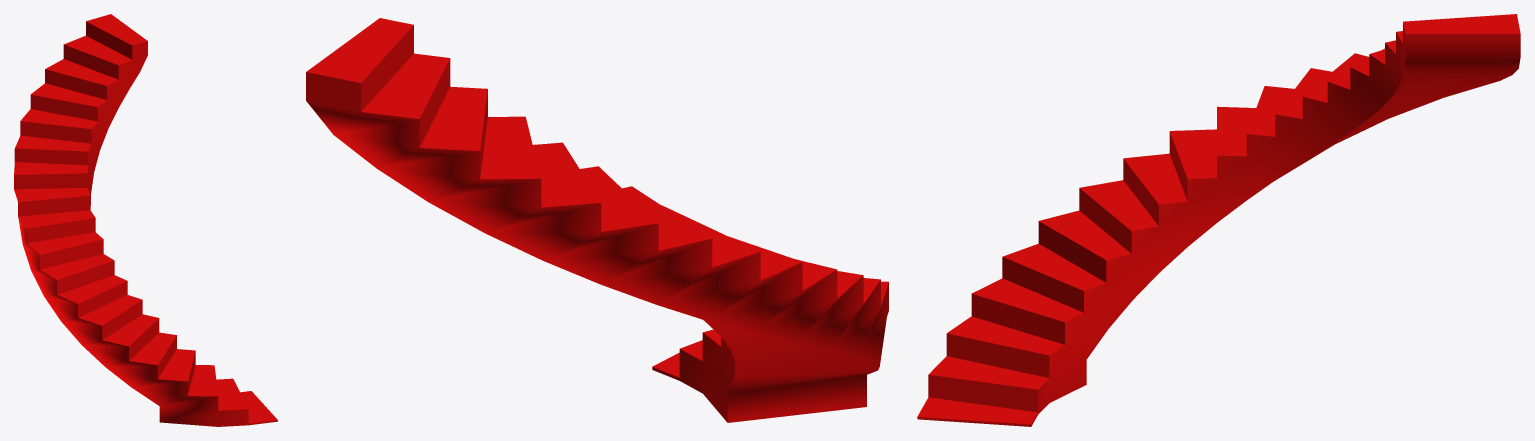
File: StairsMesh.fbx
3 views of the same model, side by side, from view 1: azimuth 30°, elevation 25°; view 2: azimuth 150°, elevation 25°; view 3: azimuth 270°, elevation 25° (orthographic). The views are drawn at different scales.
Parts seen in each view (by area): view 1: pCylinder1; view 2: pCylinder1; view 3: pCylinder1.
Part boxes in pixels (x1,y1,x2,y2): pCylinder1: (14,14,277,426); pCylinder1: (306,18,888,422); pCylinder1: (917,14,1520,426).
Size of the model in its own units: 221 by 326 by 440.
